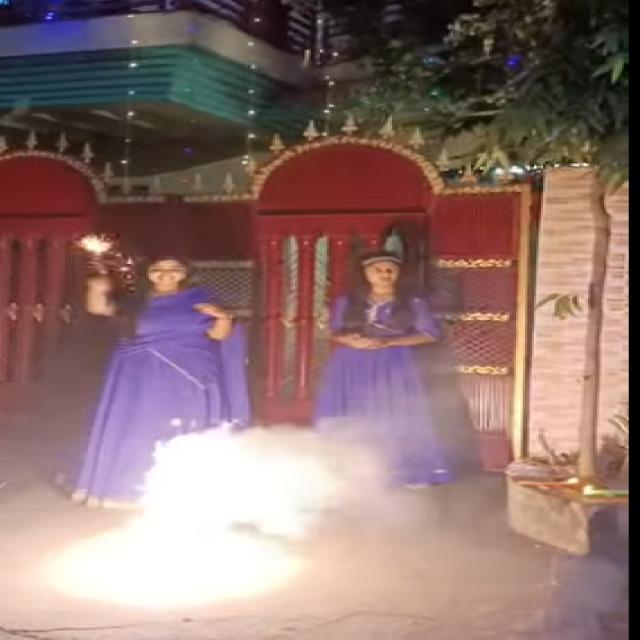fire: (29, 527, 308, 609), (130, 419, 313, 537)
